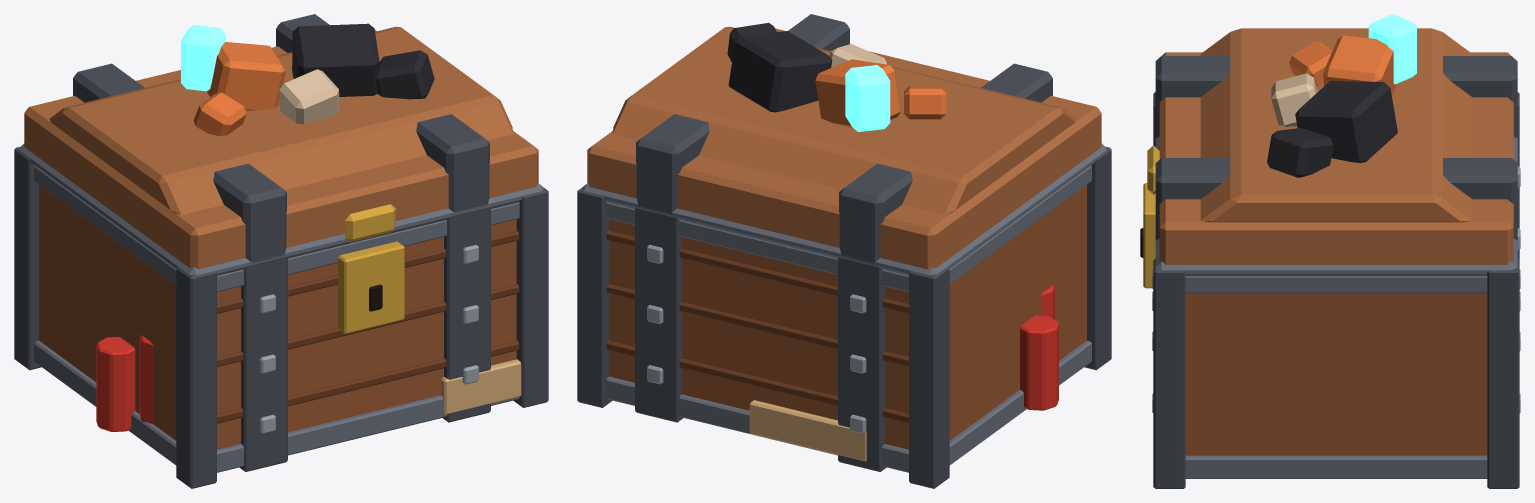
Rendered from myw_crate_zone3.glb.
3 renders of one model, left to right at view 1: azimuth 30°, elevation 25°; view 2: azimuth 150°, elevation 25°; view 3: azimuth 270°, elevation 25°, orthographic. The views are drawn at different scales.
Visible parts, largest first — view 1: Body, Lid; view 2: Body, Lid; view 3: Lid, Body.
Boxes of the visible parts, box(x1,y1,x2,y2) form: Body: box(14, 146, 548, 488); Lid: box(19, 14, 543, 275); Body: box(577, 146, 1111, 488); Lid: box(582, 14, 1106, 275); Lid: box(1147, 14, 1517, 276); Body: box(1140, 92, 1520, 488).
Bounding box in the file's own units: 2.23 × 1.93 × 1.89.
